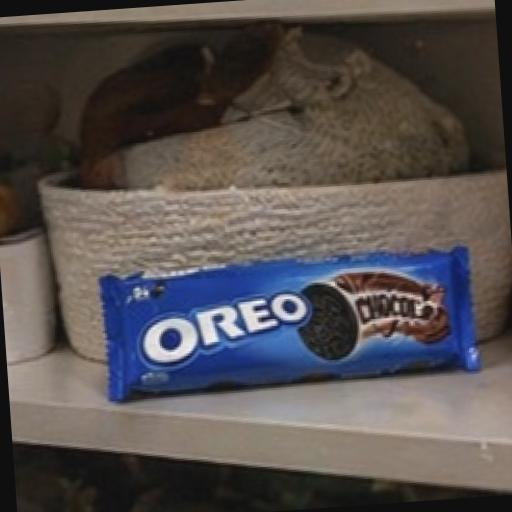oreo: (62, 197, 512, 435)
